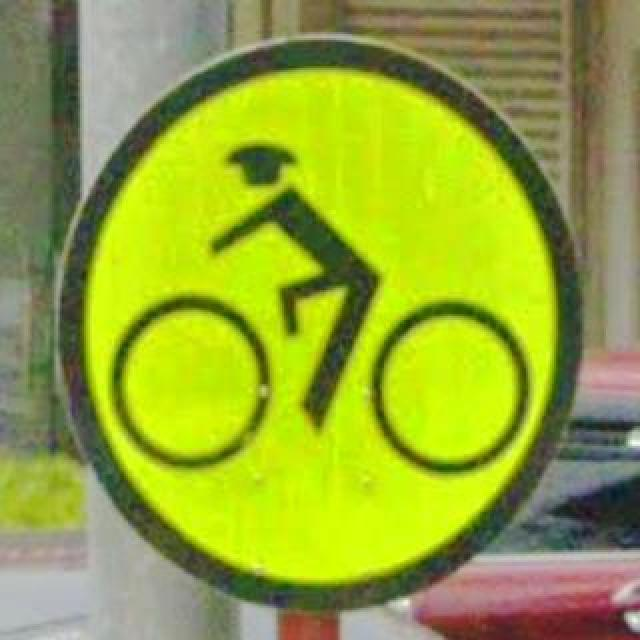bike lane: (56, 38, 582, 602)
